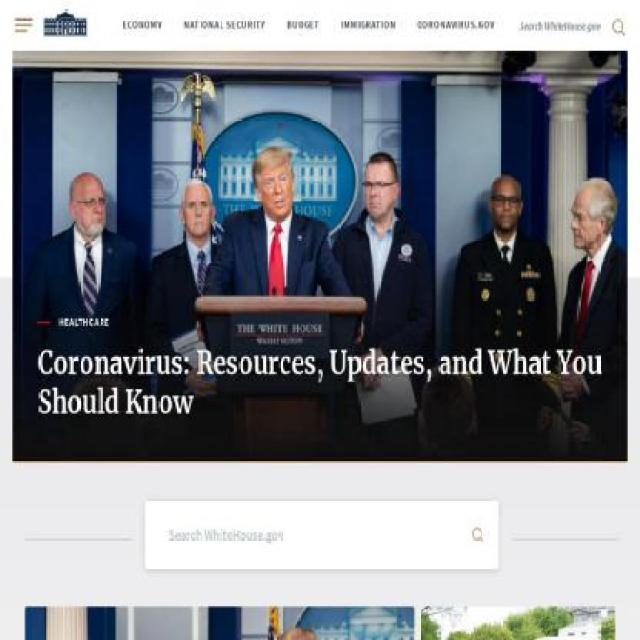button: (12, 50, 628, 461), (24, 607, 416, 639), (507, 0, 639, 51), (420, 607, 617, 639), (0, 0, 46, 51), (43, 0, 88, 51), (467, 520, 490, 549)
field: (144, 500, 499, 569)
